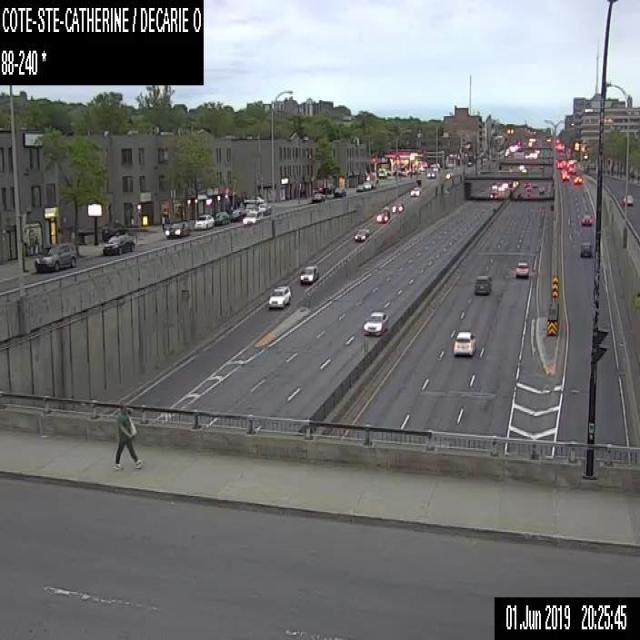pedestrian: (114, 408, 142, 469), (21, 228, 28, 256)
vehicle: (34, 242, 76, 270), (102, 232, 134, 255), (362, 309, 388, 335), (452, 330, 476, 356), (267, 284, 291, 308), (164, 221, 189, 237), (299, 264, 318, 284), (474, 274, 491, 294), (193, 213, 214, 229), (353, 227, 370, 241), (514, 261, 528, 277), (230, 208, 247, 221), (214, 210, 228, 224), (376, 208, 389, 223), (242, 211, 258, 223), (580, 242, 592, 258), (258, 203, 271, 215), (621, 193, 633, 206), (392, 201, 404, 213), (581, 213, 592, 226), (409, 187, 421, 197), (311, 192, 324, 201), (332, 188, 344, 197), (363, 181, 373, 189), (488, 191, 498, 198), (354, 184, 364, 190), (574, 176, 581, 183), (562, 173, 569, 180), (426, 171, 434, 177), (531, 182, 538, 188), (538, 188, 544, 194)
